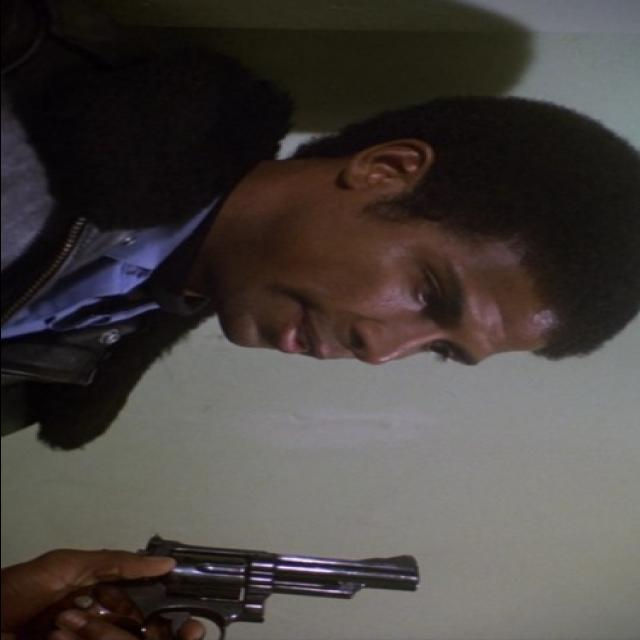weapons: (21, 525, 430, 634)
